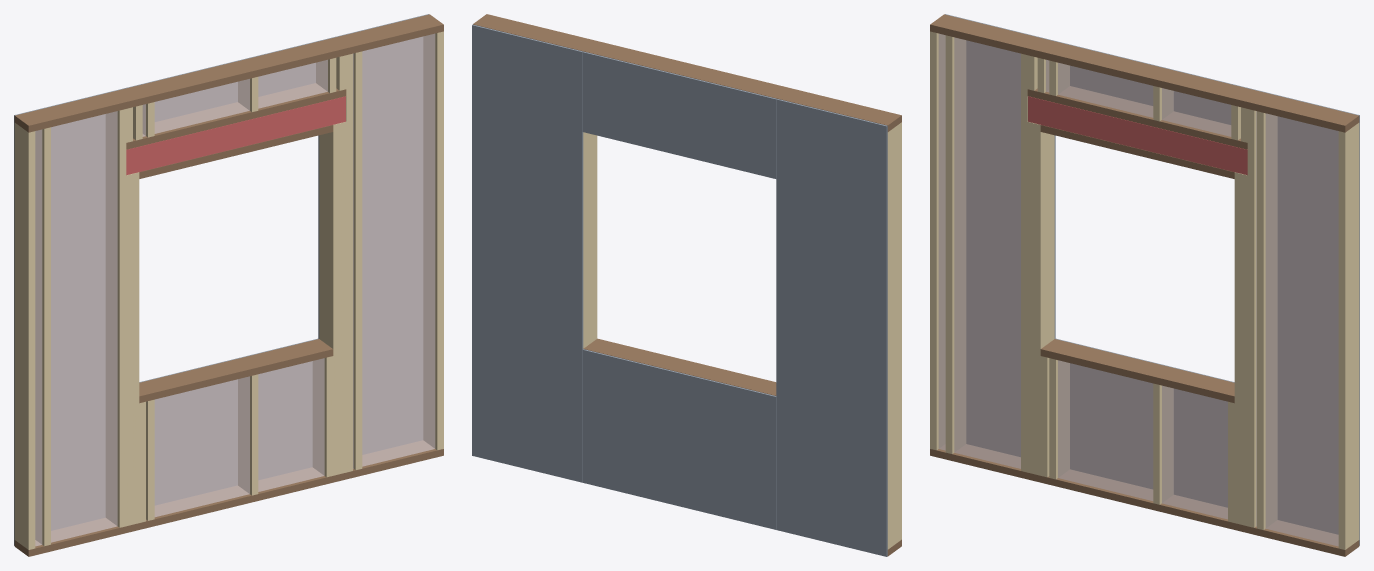
The picture shows the model from 3 angles, left to right: view 1: azimuth 30°, elevation 25°; view 2: azimuth 150°, elevation 25°; view 3: azimuth 330°, elevation 25°; orthographic projection.
Parts seen in each view (by area): view 1: EX18 FF; view 2: EX18 FF; view 3: EX18 FF.
Boxes of the visible parts, box(x1,y1,x2,y2) form: EX18 FF: box(14, 14, 443, 556); EX18 FF: box(472, 14, 901, 556); EX18 FF: box(930, 14, 1359, 556).
Size of the model in its own units: 2.4 by 2.38 by 0.149.
